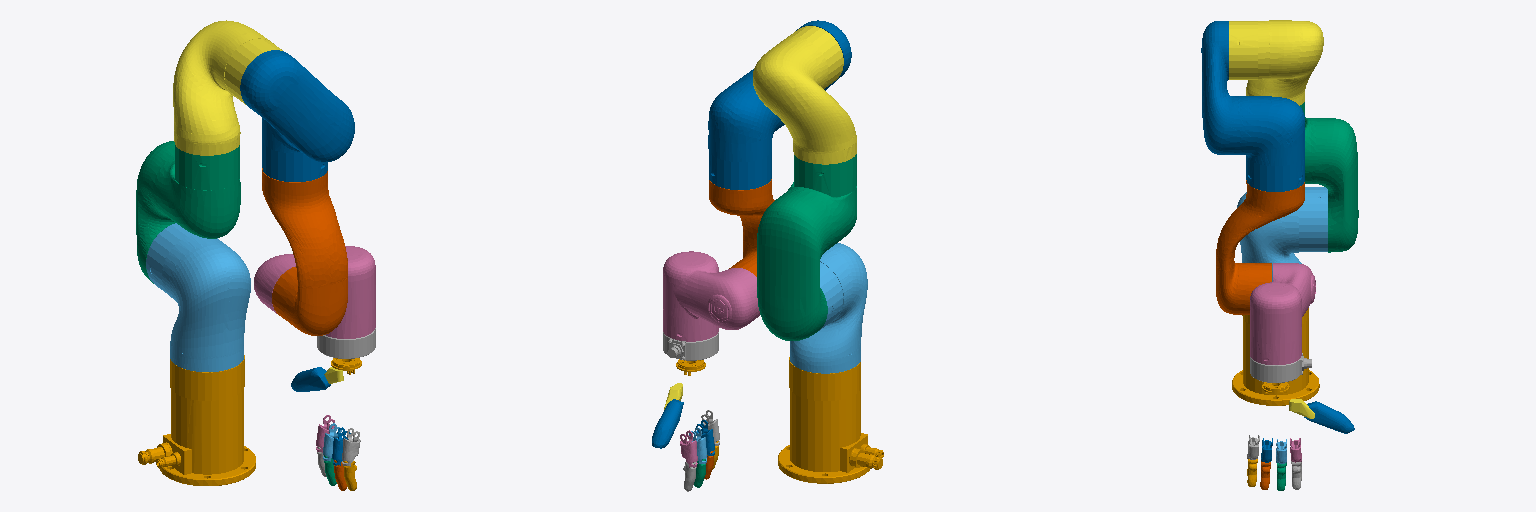
--- Render facts (derived) ---
Views: 3 orthographic renders of the robot side by side, from view 1: azimuth 30°, elevation 25°; view 2: azimuth 150°, elevation 25°; view 3: azimuth 270°, elevation 25°.
Robot: xarm7 — 26 links, 25 joints (17 revolute, 8 fixed); root link link_base; default pose: all joints at 0.
Visible links, largest first — view 1: link1, link4, link5, link_base, link3, link2, link6, link7, thumb_L2; view 2: link2, link3, link_base, link4, link6, link1, link5, link7, thumb_L2; view 3: link4, link3, link2, link6, link5, link1, link_base, link7, thumb_L2.
Boxes of the visible links, x1,y1,x2,y2 form: link1: [146, 223, 250, 371]; link4: [240, 50, 354, 181]; link5: [262, 168, 347, 335]; link_base: [138, 355, 255, 485]; link3: [173, 20, 282, 155]; link2: [136, 141, 240, 283]; link6: [254, 246, 375, 338]; link7: [317, 328, 375, 358]; thumb_L2: [291, 367, 330, 391]; link2: [757, 154, 856, 340]; link3: [753, 26, 856, 164]; link_base: [778, 357, 883, 483]; link4: [708, 20, 851, 189]; link6: [663, 251, 759, 341]; link1: [790, 243, 867, 373]; link5: [709, 179, 774, 276]; link7: [663, 332, 718, 360]; thumb_L2: [652, 399, 683, 448]; link4: [1201, 21, 1304, 191]; link3: [1229, 20, 1323, 105]; link2: [1300, 102, 1358, 252]; link6: [1250, 263, 1315, 364]; link5: [1216, 180, 1304, 314]; link1: [1237, 187, 1327, 281]; link_base: [1232, 308, 1319, 405]; link7: [1250, 353, 1311, 382]; thumb_L2: [1304, 401, 1354, 433].
Size in the robot's own frame: 0.3358 by 0.2259 by 0.6781 metres.
Meshes: 15 distinct files referenced, 19 mesh visuals loaded (13 OBJ); not drawn: 2 (reference not matched to a file when rendering).

robot.urdf — xarm7:
<?xml version="1.0" encoding="utf-8"?>
<!--GLB Source: https://github.com/sapien-sim/xarm7/tree/master/sapien_xarm7/xarm_urdf/xarm_description/meshes-->
<robot name="xarm7">
  <link name="link_base">
    <inertial>
      <origin rpy="0 0 0" xyz="-0.021131 -0.0016302 0.056488"/>
      <mass value="0.88556"/>
      <inertia ixx="0.0030595" ixy="0.00012259" ixz="-0.00062705" iyy="0.0037783" iyz="0.00027023" izz="0.0020125"/>
    </inertial>
    <visual>
      <geometry>
        <mesh filename="../../arms/xarm7/meshes/visual/link_base.obj"/>
      </geometry>
      <origin rpy="0 0 0" xyz="0 0 0"/>
    </visual>
    <collision>
      <geometry>
        <mesh filename="../../arms/xarm7/meshes/collision/link_base.obj"/>
      </geometry>
      <origin rpy="0 0 0" xyz="0 0 0"/>
    </collision>
  </link>
  <link name="link1">
    <inertial>
      <origin rpy="0 0 0" xyz="-0.0002 0.02905 -0.01233"/>
      <mass value="2.382"/>
      <inertia ixx="0.0056905" ixy="-1.579e-05" ixz="5.125e-06" iyy="0.0049566" iyz="-0.000873378" izz="0.003316654"/>
    </inertial>
    <visual>
      <geometry>
        <mesh filename="../../arms/xarm7/meshes/visual/link1.obj"/>
      </geometry>
      <origin rpy="0 0 0" xyz="0 0 0"/>
    </visual>
    <collision>
      <geometry>
        <mesh filename="../../arms/xarm7/meshes/collision/link1.obj"/>
      </geometry>
      <origin rpy="0 0 0" xyz="0 0 0"/>
    </collision>
  </link>
  <joint name="joint1" type="revolute">
    <origin rpy="0 0 0" xyz="0 0 0.267"/>
    <parent link="link_base"/>
    <child link="link1"/>
    <axis xyz="0 0 1"/>
    <limit effort="50" lower="-6.28318530718" upper="6.28318530718" velocity="3.14"/>
    <dynamics damping="10" friction="1"/>
  </joint>
  <link name="link2">
    <inertial>
      <origin rpy="0 0 0" xyz="0.00022 -0.12856 0.01735"/>
      <mass value="1.869"/>
      <inertia ixx="0.0095989" ixy="1.541e-06" ixz="5.56e-06" iyy="0.00382472" iyz="-0.00317156" izz="0.007565669"/>
    </inertial>
    <visual>
      <geometry>
        <mesh filename="../../arms/xarm7/meshes/visual/link2.obj"/>
      </geometry>
      <origin rpy="0 0 0" xyz="0 0 0"/>
    </visual>
    <collision>
      <geometry>
        <mesh filename="../../arms/xarm7/meshes/collision/link2.obj"/>
      </geometry>
      <origin rpy="0 0 0" xyz="0 0 0"/>
    </collision>
  </link>
  <joint name="joint2" type="revolute">
    <origin rpy="-1.5708 0 0" xyz="0 0 0"/>
    <parent link="link1"/>
    <child link="link2"/>
    <axis xyz="0 0 1"/>
    <limit effort="50" lower="-2.059" upper="2.0944" velocity="3.14"/>
    <dynamics damping="10" friction="1"/>
  </joint>
  <link name="link3">
    <inertial>
      <origin rpy="0 0 0" xyz="0.0466 -0.02463 -0.00768"/>
      <mass value="1.6383"/>
      <inertia ixx="0.00310955" ixy="0.00030837" ixz="-0.00058453" iyy="0.00264483" iyz="0.000338893" izz="0.0026624"/>
    </inertial>
    <visual>
      <geometry>
        <mesh filename="../../arms/xarm7/meshes/visual/link3.obj"/>
      </geometry>
      <origin rpy="0 0 0" xyz="0 0 0"/>
    </visual>
    <collision>
      <geometry>
        <mesh filename="../../arms/xarm7/meshes/collision/link3.obj"/>
      </geometry>
      <origin rpy="0 0 0" xyz="0 0 0"/>
    </collision>
  </link>
  <joint name="joint3" type="revolute">
    <origin rpy="1.5708 0 0" xyz="0 -0.293 0"/>
    <parent link="link2"/>
    <child link="link3"/>
    <axis xyz="0 0 1"/>
    <limit effort="30" lower="-6.28318530718" upper="6.28318530718" velocity="3.14"/>
    <dynamics damping="5" friction="1"/>
  </joint>
  <link name="link4">
    <inertial>
      <origin rpy="0 0 0" xyz="0.07047 -0.11575 0.012"/>
      <mass value="1.7269"/>
      <inertia ixx="0.005889" ixy="0.00137112" ixz="0.00088143" iyy="0.00359703" iyz="-0.001762155" izz="0.00543244"/>
    </inertial>
    <visual>
      <geometry>
        <mesh filename="../../arms/xarm7/meshes/visual/link4.obj"/>
      </geometry>
      <origin rpy="0 0 0" xyz="0 0 0"/>
    </visual>
    <collision>
      <geometry>
        <mesh filename="../../arms/xarm7/meshes/collision/link4.obj"/>
      </geometry>
      <origin rpy="0 0 0" xyz="0 0 0"/>
    </collision>
  </link>
  <joint name="joint4" type="revolute">
    <origin rpy="1.5708 0 0" xyz="0.0525 0 0"/>
    <parent link="link3"/>
    <child link="link4"/>
    <axis xyz="0 0 1"/>
    <limit effort="30" lower="-0.19198" upper="3.927" velocity="3.14"/>
    <dynamics damping="5" friction="1"/>
  </joint>
  <link name="link5">
    <inertial>
      <origin rpy="0 0 0" xyz="-0.00032 0.01604 -0.026"/>
      <mass value="1.3203"/>
      <inertia ixx="0.00534665" ixy="1.5117e-05" ixz="-3.69e-07" iyy="0.0049779" iyz="-0.00022132" izz="0.0013624"/>
    </inertial>
    <visual>
      <geometry>
        <mesh filename="../../arms/xarm7/meshes/visual/link5.obj"/>
      </geometry>
      <origin rpy="0 0 0" xyz="0 0 0"/>
    </visual>
    <collision>
      <geometry>
        <mesh filename="../../arms/xarm7/meshes/collision/link5.obj"/>
      </geometry>
      <origin rpy="0 0 0" xyz="0 0 0"/>
    </collision>
  </link>
  <joint name="joint5" type="revolute">
    <origin rpy="1.5708 0 0" xyz="0.0775 -0.3425 0"/>
    <parent link="link4"/>
    <child link="link5"/>
    <axis xyz="0 0 1"/>
    <limit effort="30" lower="-6.28318530718" upper="6.28318530718" velocity="3.14"/>
    <dynamics damping="5" friction="1"/>
  </joint>
  <link name="link6">
    <inertial>
      <origin rpy="0 0 0" xyz="0.06469 0.03278 0.02141"/>
      <mass value="1.325"/>
      <inertia ixx="0.0014745" ixy="-0.000488" ixz="0.0002953" iyy="0.0019037" iyz="0.00014749" izz="0.0023652"/>
    </inertial>
    <visual>
      <geometry>
        <mesh filename="../../arms/xarm7/meshes/visual/link6.obj"/>
      </geometry>
      <origin rpy="0 0 0" xyz="0 0 0"/>
    </visual>
    <collision>
      <geometry>
        <mesh filename="../../arms/xarm7/meshes/collision/link6.obj"/>
      </geometry>
      <origin rpy="0 0 0" xyz="0 0 0"/>
    </collision>
  </link>
  <joint name="joint6" type="revolute">
    <origin rpy="1.5708 0 0" xyz="0 0 0"/>
    <parent link="link5"/>
    <child link="link6"/>
    <axis xyz="0 0 1"/>
    <limit effort="20" lower="-1.69297" upper="3.14159265359" velocity="3.14"/>
    <dynamics damping="2" friction="1"/>
  </joint>
  <link name="link7">
    <inertial>
      <origin rpy="0 0 0" xyz="0 -0.00677 -0.01098"/>
      <mass value="0.17"/>
      <inertia ixx="9.3e-05" ixy="-0.0" ixz="-0.0" iyy="5.87e-05" iyz="-3.6e-06" izz="0.000132"/>
    </inertial>
    <visual>
      <geometry>
        <mesh filename="../../arms/xarm7/meshes/visual/link7.obj"/>
      </geometry>
      <origin rpy="0 0 0" xyz="0 0 0"/>
    </visual>
    <collision>
      <geometry>
        <mesh filename="../../arms/xarm7/meshes/collision/link7.obj"/>
      </geometry>
      <origin rpy="0 0 0" xyz="0 0 0"/>
    </collision>
    <visual name="hand_mount">
      <origin rpy="0 0 0" xyz="0 0 0"/>
      <geometry>
        <mesh filename="meshes/hand_base.obj"/>
      </geometry>
    </visual>
    <collision name="hand_mount_collision">
      <origin rpy="0 0 0" xyz="0 0 0.009"/>
      <geometry>
        <cylinder radius="0.0365" length="0.018"/>
      </geometry>
    </collision>
  </link>
  <joint name="joint7" type="revolute">
    <origin rpy="-1.5708 0 0" xyz="0.076 0.097 0"/>
    <parent link="link6"/>
    <child link="link7"/>
    <axis xyz="0 0 1"/>
    <limit effort="20" lower="-6.28318530718" upper="6.28318530718" velocity="3.14"/>
    <dynamics damping="2" friction="1"/>
  </joint>
  <joint name="joint_eef" type="fixed">
    <origin xyz="0 0 0.018" rpy="0 0 -1.57079"/>
    <parent link="link7"/>
    <child link="base"/>
  </joint>
  <link name="base">
    <visual name="wrist_mesh">
      <origin rpy="0 0 0" xyz="0 0 0"/>
      <geometry>
        <mesh filename="../../hands/ability_hand/meshes/visual/wristmesh.obj"/>
      </geometry>
    </visual>
    <collision>
      <origin xyz="0 0 0" rpy="0 0 0"/>
      <geometry>
        <mesh filename="../../hands/ability_hand/meshes/collision/wristmesh_C.obj"/>
      </geometry>
    </collision>
    <inertial>  <!-- the mass and inertia here are NOT correct -->
      <mass value="0.200"/>
      <inertia ixx="978.26e-6" ixy="87.34e-6" ixz="322.99e-6" iyy="1244.78e-6" iyz="244.74e-6" izz="456.22e-6"/>
      <origin xyz="22.41911e-3 -0.15798201e-3 -0.01319866e-3" rpy="0 0 0"/>
    </inertial>
  </link>

  <!--  enf effector frame-->
  <joint name="ee_joint" type="fixed">
    <parent link="base"/>
    <child link="ee_link"/>
    <origin xyz="0 0 0" rpy="0 0 1.57079"/>
  </joint>
  <link name="ee_link"/>

  <joint name="wrist2thumb" type="fixed">
    <parent link="base"/>
    <child link="thumb_base"/>
    <origin xyz="24.0476665e-3 3.78124745e-3 32.32964923e-3" rpy="3.14148426 0.08848813 3.14036612"/>
  </joint>
  <link name="thumb_base">
    <inertial>
      <mass value="0.400"/>
      <inertia ixx="978.26e-6" ixy="87.34e-6" ixz="322.99e-6" iyy="1244.78e-6" iyz="244.74e-6" izz="456.22e-6"/>
      <origin xyz="22.41911e-3 -0.15798201e-3 -0.01319866e-3" rpy="0 0 0"/>
    </inertial>
    <visual name="palm_mesh">
      <origin rpy="0 0 0" xyz="0 0 0"/>
      <geometry>
        <mesh filename="../../hands/ability_hand/meshes/visual/FB_palm_ref.obj"/>
      </geometry>
    </visual>
    <collision>                                  <!-- thumb_base -->
      <origin xyz="0 0 0" rpy="0 0 0"/>
      <geometry>
        <mesh filename="../../hands/ability_hand/meshes/collision/FB_palm_ref.obj"/>
      </geometry>
    </collision>
  </link>
  <link name="thumb_L1">
    <inertial>
      <mass value="0.00268342"/>
      <inertia ixx="0.16931e-4" ixy="-0.076214e-4" ixz="-0.16959148e-4" iyy="0.77769934e-4" iyz="0.0156622e-4" izz="0.7249122e-4"/>
      <origin rpy="0 0 0" xyz="14.606e-3 -1.890854e-3 -3.1155356e-3"/>
    </inertial>
    <visual name="thumb_mesh_1">
      <origin xyz="27.8283501e-3 0 -14.7507000e-3" rpy="4.450589592585541 0 0"/>
      <geometry>
        <mesh filename="../../hands/ability_hand/meshes/visual/thumb-F1.obj"/>
      </geometry>
    </visual>
    <collision>                            <!-- thumb_L1 -->
      <origin xyz="27.8283501e-3 0 -14.7507000e-3" rpy="4.450589592585541 0 0"/>
      <geometry>
        <mesh filename="../../hands/ability_hand/meshes/collision/thumb-F1_C.obj"/>
      </geometry>
    </collision>
  </link>
  <link name="thumb_L2">
    <inertial>
      <mass value="0.0055"/>
      <inertia ixx="4.4789082e-4" ixy="4.4789082e-4" ixz="-0.62144934e-4" iyy="15.600996e-4" iyz="-0.07466143e-4" izz="17.908554e-4"/>
      <origin rpy="0 0 0" xyz="30.020522e-3 5.59476e-3 -4.1504356e-3"/>
    </inertial>
    <visual name="thumb_mesh_2">
      <origin xyz="65.18669e-3 23.34021e-3 3.93483e-3" rpy="-3.141592 0 0.343830"/>
      <geometry>
        <mesh filename="../../hands/ability_hand/meshes/visual/thumb-F2.obj"/>
      </geometry>
    </visual>
    <collision>                            <!-- thumb_L2 -->
      <origin xyz="65.18669e-3 23.34021e-3 3.93483e-3" rpy="-3.141592 0 0.343830"/>
      <geometry>
        <mesh filename="../../hands/ability_hand/meshes/collision/thumb-F2_C.obj"/>
      </geometry>
    </collision>
  </link>
  <joint name="thumb_q1" type="revolute">
    <parent link="thumb_base"/>
    <child link="thumb_L1"/>
    <origin xyz="0 0 0" rpy="0 0 3.330437"/>
    <axis xyz="0 0 1"/>
    <limit lower="-2.0943951" upper="0" effort="1.2" velocity="40.338888721"/>    <!-- angles in rad, efforts in N-m, velocity in rad/s -->
    <dynamics damping="0.001" friction="0.001"/>  <!-- Friction coefficient is not from quantitative measurement -->
  </joint>
  <joint name="thumb_q2" type="revolute">
    <parent link="thumb_L1"/>
    <child link="thumb_L2"/>
    <origin xyz="27.8283501e-3 0 -14.7507000e-3" rpy="4.450589592585541 0 0"/>
    <axis xyz="0 0 1"/>
    <limit lower="0" upper="2.0943951" effort="6.0" velocity="8.0677777442"/>    <!-- angles in rad, efforts in N-m, velocity in rad/s -->
    <dynamics damping="0.001" friction="0.001"/>  <!-- Friction coefficient is not from quantitative measurement -->
  </joint>
  <link name="thumb_tip"/>
  <joint name="thumb_tip_joint" type="fixed">
    <parent link="thumb_L2"/>
    <child link="thumb_tip"/>
    <origin rpy="0 0 0" xyz="0.065 0.016 0"/>
  </joint>
  <link name="index_L1">
    <inertial>
      <mass value="0.00635888"/>
      <inertia ixx="0.29766e-4" ixy="-0.06447133e-4" ixz="-0.00423315e-4" iyy="3.6947967e-4" iyz="0.00083028e-4" izz="3.8176336e-4"/>
      <origin xyz="22.41911e-3 -0.15798201e-3 -0.01319866e-3" rpy="0 0 0"/>
    </inertial>
    <visual name="index_mesh_1">
      <origin xyz="38.472723e-3 3.257695e-3 0.000000" rpy="0 0 0.084474"/>
      <geometry>
        <mesh filename="../../hands/ability_hand/meshes/visual/idx-F1.obj"/>
      </geometry>
    </visual>
    <collision>                                  <!-- index_L1 -->
      <origin xyz="0.036 -0.00175 0" rpy="0 0 0"/>
      <geometry>
        <sphere radius="0.0085"/>
      </geometry>
    </collision>
    <collision>
      <origin xyz="0.019 -0.0045 0" rpy="0 0 0.0845"/>
      <geometry>
        <box size="0.028 0.012 0.016"/>
      </geometry>
    </collision>
    <collision>
      <origin xyz="0.018 0.006 0" rpy="0 0 0.0845"/>
      <geometry>
        <box size="0.02 0.01 0.016"/>
      </geometry>
    </collision>
    <collision>
      <origin xyz="-0.001 0 0.007" rpy="0 0 0.0845"/>
      <geometry>
        <box size="0.012 0.012 0.002"/>
      </geometry>
    </collision>
    <collision>
      <origin xyz="-0.001 0 -0.007" rpy="0 0 0.0845"/>
      <geometry>
        <box size="0.012 0.012 0.002"/>
      </geometry>
    </collision>
  </link>
  <link name="index_L2">
    <inertial>
      <mass value="0.00645"/>
      <inertia ixx="0.82671e-4" ixy="-1.08876e-4" ixz="-0.00037e-4" iyy="1.98028e-4" iyz="0.00081e-4" izz="2.64638e-4"/>
      <origin rpy="0 0 0" xyz="13.36818e-3 -8.75392e-3 -0.02886e-3"/>
    </inertial>
    <visual name="index_mesh_2">
      <origin rpy="0 0 0" xyz="9.1241e-3 0 0"/>
      <geometry>
        <mesh filename="../../hands/ability_hand/meshes/visual/idx-F2.obj"/>
      </geometry>
    </visual>
    <collision>                            <!-- index_L2 -->
      <origin xyz="0 0 0" rpy="0 0 0"/>
      <geometry>
        <mesh filename="../../hands/ability_hand/meshes/collision/idx-F2_C.obj"/>
      </geometry>
    </collision>
    <collision>
      <origin xyz="0.03 -0.016 0" rpy="0 0 0"/>
      <geometry>
        <sphere radius="0.007"/>
      </geometry>
    </collision>
  </link>
  <joint name="index_q1" type="revolute">
    <parent link="thumb_base"/>
    <child link="index_L1"/>
    <origin xyz="-9.49e-3 -13.04e-3 -62.95e-3" rpy="-1.982050 1.284473 -2.090591"/>
    <axis xyz="0 0 1"/>
    <limit lower="0" upper="2.0943951" effort="6.0" velocity="8.0677777442"/>    <!-- angles in rad, efforts in N-m, velocity in rad/s -->
    <dynamics damping="0.001" friction="0.001"/>  <!-- Friction coefficient is not from quantitative measurement -->
  </joint>
  <joint name="index_q2" type="revolute">
    <parent link="index_L1"/>
    <child link="index_L2"/>
    <origin xyz="38.472723e-3 3.257695e-3 0.000000e-3" rpy="0 0 0.084474"/>
    <axis xyz="0 0 1"/>
    <limit lower="0.0" upper="2.6586" effort="6.0" velocity="8.0677777442"/>    <!-- angles in rad, efforts in N-m, velocity in rad/s -->
    <dynamics damping="0.001" friction="0.001"/>  <!-- Friction coefficient is not from quantitative measurement -->
    <mimic joint="index_q1" multiplier="1.05851325" offset="0.72349796"/>
  </joint>
  <link name="index_tip"/>
  <joint name="index_tip_joint" type="fixed">
    <parent link="index_L2"/>
    <child link="index_tip"/>
    <origin rpy="0 0 0" xyz="0.035  -0.018 0"/>
  </joint>
  <link name="middle_L1">
    <inertial>
      <mass value="0.00635888"/>
      <inertia ixx="0.29766e-4" ixy="-0.06447133e-4" ixz="-0.00423315e-4" iyy="3.6947967e-4" iyz="0.00083028e-4" izz="3.8176336e-4"/>
      <origin xyz="22.41911e-3 -0.15798201e-3 -0.01319866e-3" rpy="0 0 0"/>
    </inertial>
    <visual name="middle_mesh_1">
      <origin xyz="38.472723e-3 3.257695e-3 0.000000" rpy="0 0 0.084474"/>
      <geometry>
        <mesh filename="../../hands/ability_hand/meshes/visual/idx-F1.obj"/>
      </geometry>
    </visual>
    <collision>                                  <!-- middle_L1 -->
      <origin xyz="0.036 -0.00175 0" rpy="0 0 0"/>
      <geometry>
        <sphere radius="0.0085"/>
      </geometry>
    </collision>
    <collision>
      <origin xyz="0.019 -0.0045 0" rpy="0 0 0.0845"/>
      <geometry>
        <box size="0.028 0.012 0.016"/>
      </geometry>
    </collision>
    <collision>
      <origin xyz="0.018 0.006 0" rpy="0 0 0.0845"/>
      <geometry>
        <box size="0.02 0.01 0.016"/>
      </geometry>
    </collision>
    <collision>
      <origin xyz="-0.001 0 0.007" rpy="0 0 0.0845"/>
      <geometry>
        <box size="0.012 0.012 0.002"/>
      </geometry>
    </collision>
    <collision>
      <origin xyz="-0.001 0 -0.007" rpy="0 0 0.0845"/>
      <geometry>
        <box size="0.012 0.012 0.002"/>
      </geometry>
    </collision>
  </link>
  <link name="middle_L2">
    <inertial>
      <mass value="0.00645"/>
      <inertia ixx="0.82671e-4" ixy="-1.08876e-4" ixz="-0.00037e-4" iyy="1.98028e-4" iyz="0.00081e-4" izz="2.64638e-4"/>
      <origin rpy="0 0 0" xyz="13.36818e-3 -8.75392e-3 -0.02886e-3"/>
    </inertial>
    <visual name="middle_mesh_2">
      <origin rpy="0 0 0" xyz="9.1241e-3 0 0"/>
      <geometry>
        <mesh filename="../../hands/ability_hand/meshes/visual/idx-F2.obj"/>
      </geometry>
    </visual>
    <collision>                            <!-- middle_L2 -->
      <origin xyz="0 0 0" rpy="0 0 0"/>
      <geometry>
        <mesh filename="../../hands/ability_hand/meshes/collision/idx-F2_C.obj"/>
      </geometry>
    </collision>
    <collision>
      <origin xyz="0.03 -0.016 0" rpy="0 0 0"/>
      <geometry>
        <sphere radius="0.007"/>
      </geometry>
    </collision>
  </link>
  <joint name="middle_q1" type="revolute">
    <parent link="thumb_base"/>
    <child link="middle_L1"/>
    <origin xyz="9.653191e-3 -15.310271e-3 -67.853949e-3" rpy="-1.860531 1.308458 -1.896217"/>
    <limit lower="0" upper="2.0943951" effort="6.0" velocity="8.0677777442"/>    <!-- angles in rad, efforts in N-m, velocity in rad/s -->
    <dynamics damping="0.001" friction="0.001"/>  <!-- Friction coefficient is not from quantitative measurement -->
    <axis xyz="0 0 1"/>
  </joint>
  <joint name="middle_q2" type="revolute">
    <parent link="middle_L1"/>
    <child link="middle_L2"/>
    <origin xyz="38.472723e-3 3.257695e-3 0.000000" rpy="0 0 0.084474"/>
    <axis xyz="0 0 1"/>
    <limit lower="0.0" upper="2.6586" effort="6.0" velocity="8.0677777442"/>    <!-- angles in rad, efforts in N-m, velocity in rad/s -->
    <dynamics damping="0.001" friction="0.001"/>  <!-- Friction coefficient is not from quantitative measurement -->
    <mimic joint="middle_q1" multiplier="1.05851325" offset="0.72349796"/>
  </joint>
  <link name="middle_tip"/>
  <joint name="middle_tip_joint" type="fixed">
    <parent link="middle_L2"/>
    <child link="middle_tip"/>
    <origin rpy="0 0 0" xyz="0.035  -0.018 0"/>
  </joint>
  <link name="ring_L1">
    <inertial>
      <mass value="0.00635888"/>
      <inertia ixx="0.29766e-4" ixy="-0.06447133e-4" ixz="-0.00423315e-4" iyy="3.6947967e-4" iyz="0.00083028e-4" izz="3.8176336e-4"/>
      <origin xyz="22.41911e-3 -0.15798201e-3 -0.01319866e-3" rpy="0 0 0"/>
    </inertial>
    <visual name="ring_mesh_1">
      <origin xyz="38.472723e-3 3.257695e-3 0.000000" rpy="0 0 0.084474"/>
      <geometry>
        <mesh filename="../../hands/ability_hand/meshes/visual/idx-F1.obj"/>
      </geometry>
    </visual>
    <collision>                                  <!-- ring_L1 -->
      <origin xyz="0.036 -0.00175 0" rpy="0 0 0"/>
      <geometry>
        <sphere radius="0.0085"/>
      </geometry>
    </collision>
    <collision>
      <origin xyz="0.019 -0.0045 0" rpy="0 0 0.0845"/>
      <geometry>
        <box size="0.028 0.012 0.016"/>
      </geometry>
    </collision>
    <collision>
      <origin xyz="0.018 0.006 0" rpy="0 0 0.0845"/>
      <geometry>
        <box size="0.02 0.01 0.016"/>
      </geometry>
    </collision>
    <collision>
      <origin xyz="-0.001 0 0.007" rpy="0 0 0.0845"/>
      <geometry>
        <box size="0.012 0.012 0.002"/>
      </geometry>
    </collision>
    <collision>
      <origin xyz="-0.001 0 -0.007" rpy="0 0 0.0845"/>
      <geometry>
        <box size="0.012 0.012 0.002"/>
      </geometry>
    </collision>
  </link>
  <link name="ring_L2">
    <inertial>
      <mass value="0.00645"/>
      <inertia ixx="0.82671e-4" ixy="-1.08876e-4" ixz="-0.00037e-4" iyy="1.98028e-4" iyz="0.00081e-4" izz="2.64638e-4"/>
      <origin rpy="0 0 0" xyz="13.36818e-3 -8.75392e-3 -0.02886e-3"/>
    </inertial>
    <visual name="ring_mesh_2">
      <origin rpy="0 0 0" xyz="9.1241e-3 0 0"/>
      <geometry>
        <mesh filename="../../hands/ability_hand/meshes/visual/idx-F2.obj"/>
      </geometry>
    </visual>
    <collision>                            <!-- ring_L2 -->
      <origin xyz="0 0 0" rpy="0 0 0"/>
      <geometry>
        <mesh filename="../../hands/ability_hand/meshes/collision/idx-F2_C.obj"/>
      </geometry>
    </collision>
    <collision>
      <origin xyz="0.03 -0.016 0" rpy="0 0 0"/>
      <geometry>
        <sphere radius="0.007"/>
      </geometry>
    </collision>
  </link>
  <joint name="ring_q1" type="revolute">
    <parent link="thumb_base"/>
    <child link="ring_L1"/>
    <origin xyz="29.954260e-3 -14.212492e-3 -67.286105e-3" rpy="-1.716598 1.321452 -1.675862"/>
    <limit lower="0" upper="2.0943951" effort="6.0" velocity="8.0677777442"/>    <!-- angles in rad, efforts in N-m, velocity in rad/s -->
    <dynamics damping="0.001" friction="0.001"/>  <!-- Friction coefficient is not from quantitative measurement -->
    <axis xyz="0 0 1"/>
  </joint>
  <joint name="ring_q2" type="revolute">
    <parent link="ring_L1"/>
    <child link="ring_L2"/>
    <origin xyz="38.472723e-3 3.257695e-3 0.000000" rpy="0 0 0.084474"/>
    <axis xyz="0 0 1"/>
    <limit lower="0.0" upper="2.6586" effort="6.0" velocity="8.0677777442"/>    <!-- angles in rad, efforts in N-m, velocity in rad/s -->
    <dynamics damping="0.001" friction="0.001"/>  <!-- Friction coefficient is not from quantitative measurement -->
    <mimic joint="ring_q1" multiplier="1.05851325" offset="0.72349796"/>
  </joint>
  <link name="ring_tip"/>
  <joint name="ring_tip_joint" type="fixed">
    <parent link="ring_L2"/>
    <child link="ring_tip"/>
    <origin rpy="0 0 0" xyz="0.035  -0.018 0"/>
  </joint>
  <link name="pinky_L1">
    <inertial>
      <mass value="0.00635888"/>
      <inertia ixx="0.29766e-4" ixy="-0.06447133e-4" ixz="-0.00423315e-4" iyy="3.6947967e-4" iyz="0.00083028e-4" izz="3.8176336e-4"/>
      <origin xyz="22.41911e-3 -0.15798201e-3 -0.01319866e-3" rpy="0 0 0"/>
    </inertial>
    <visual name="pinky_mesh_1">
      <origin xyz="38.472723e-3 3.257695e-3 0.000000" rpy="0 0 0.084474"/>
      <geometry>
        <mesh filename="../../hands/ability_hand/meshes/visual/idx-F1.obj"/>
      </geometry>
    </visual>
    <collision>                                  <!-- pinky_L1 -->
      <origin xyz="0.036 -0.00175 0" rpy="0 0 0"/>
      <geometry>
        <sphere radius="0.0085"/>
      </geometry>
    </collision>
    <collision>
      <origin xyz="0.019 -0.0045 0" rpy="0 0 0.0845"/>
      <geometry>
        <box size="0.028 0.012 0.016"/>
      </geometry>
    </collision>
    <collision>
      <origin xyz="0.018 0.006 0" rpy="0 0 0.0845"/>
      <geometry>
        <box size="0.02 0.01 0.016"/>
      </geometry>
    </collision>
    <collision>
      <origin xyz="-0.001 0 0.007" rpy="0 0 0.0845"/>
      <geometry>
        <box size="0.012 0.012 0.002"/>
      </geometry>
    </collision>
    <collision>
      <origin xyz="-0.001 0 -0.007" rpy="0 0 0.0845"/>
      <geometry>
        <box size="0.012 0.012 0.002"/>
      </geometry>
    </collision>
  </link>
  <link name="pinky_L2">
    <inertial>
      <mass value="0.00645"/>
      <inertia ixx="0.82671e-4" ixy="-1.08876e-4" ixz="-0.00037e-4" iyy="1.98028e-4" iyz="0.00081e-4" izz="2.64638e-4"/>
      <origin rpy="0 0 0" xyz="13.36818e-3 -8.75392e-3 -0.02886e-3"/>
    </inertial>
    <visual name="pinky_mesh_2">
      <origin rpy="0 0 0" xyz="9.1241e-3 0 0"/>
      <geometry>
        <mesh filename="../../hands/ability_hand/meshes/visual/idx-F2.obj"/>
      </geometry>
    </visual>
    <collision>                            <!-- pinky_L2 -->
      <origin xyz="0 0 0" rpy="0 0 0"/>
      <geometry>
        <mesh filename="../../hands/ability_hand/meshes/collision/idx-F2_C.obj"/>
      </geometry>
    </collision>
    <collision>
      <origin xyz="0.03 -0.016 0" rpy="0 0 0"/>
      <geometry>
        <sphere radius="0.007"/>
      </geometry>
    </collision>
  </link>
  <joint name="pinky_q1" type="revolute">
    <parent link="thumb_base"/>
    <child link="pinky_L1"/>
    <origin xyz="49.521293e-3 -11.004583e-3 -63.029065e-3" rpy="-1.765110 1.322220 -1.658383"/>
    <limit lower="0" upper="2.0943951" effort="6.0" velocity="8.0677777442"/>    <!-- angles in rad, efforts in N-m, velocity in rad/s -->
    <dynamics damping="0.001" friction="0.001"/>  <!-- Friction coefficient is not from quantitative measurement -->
    <axis xyz="0 0 1"/>
  </joint>
  <joint name="pinky_q2" type="revolute">
    <parent link="pinky_L1"/>
    <child link="pinky_L2"/>
    <origin xyz="38.472723e-3 3.257695e-3 0.000000" rpy="0 0 0.084474"/>
    <limit lower="0.0" upper="2.6586" effort="6.0" velocity="8.0677777442"/>    <!-- angles in rad, efforts in N-m, velocity in rad/s -->
    <dynamics damping="0.001" friction="0.001"/>  <!-- Friction coefficient is not from quantitative measurement -->
    <axis xyz="0 0 1"/>
    <mimic joint="pinky_q1" multiplier="1.05851325" offset="0.72349796"/>
  </joint>
  <link name="pinky_tip"/>
  <joint name="pinky_tip_joint" type="fixed">
    <parent link="pinky_L2"/>
    <child link="pinky_tip"/>
    <origin rpy="0 0 0" xyz="0.035  -0.018 0"/>
  </joint>
</robot>
